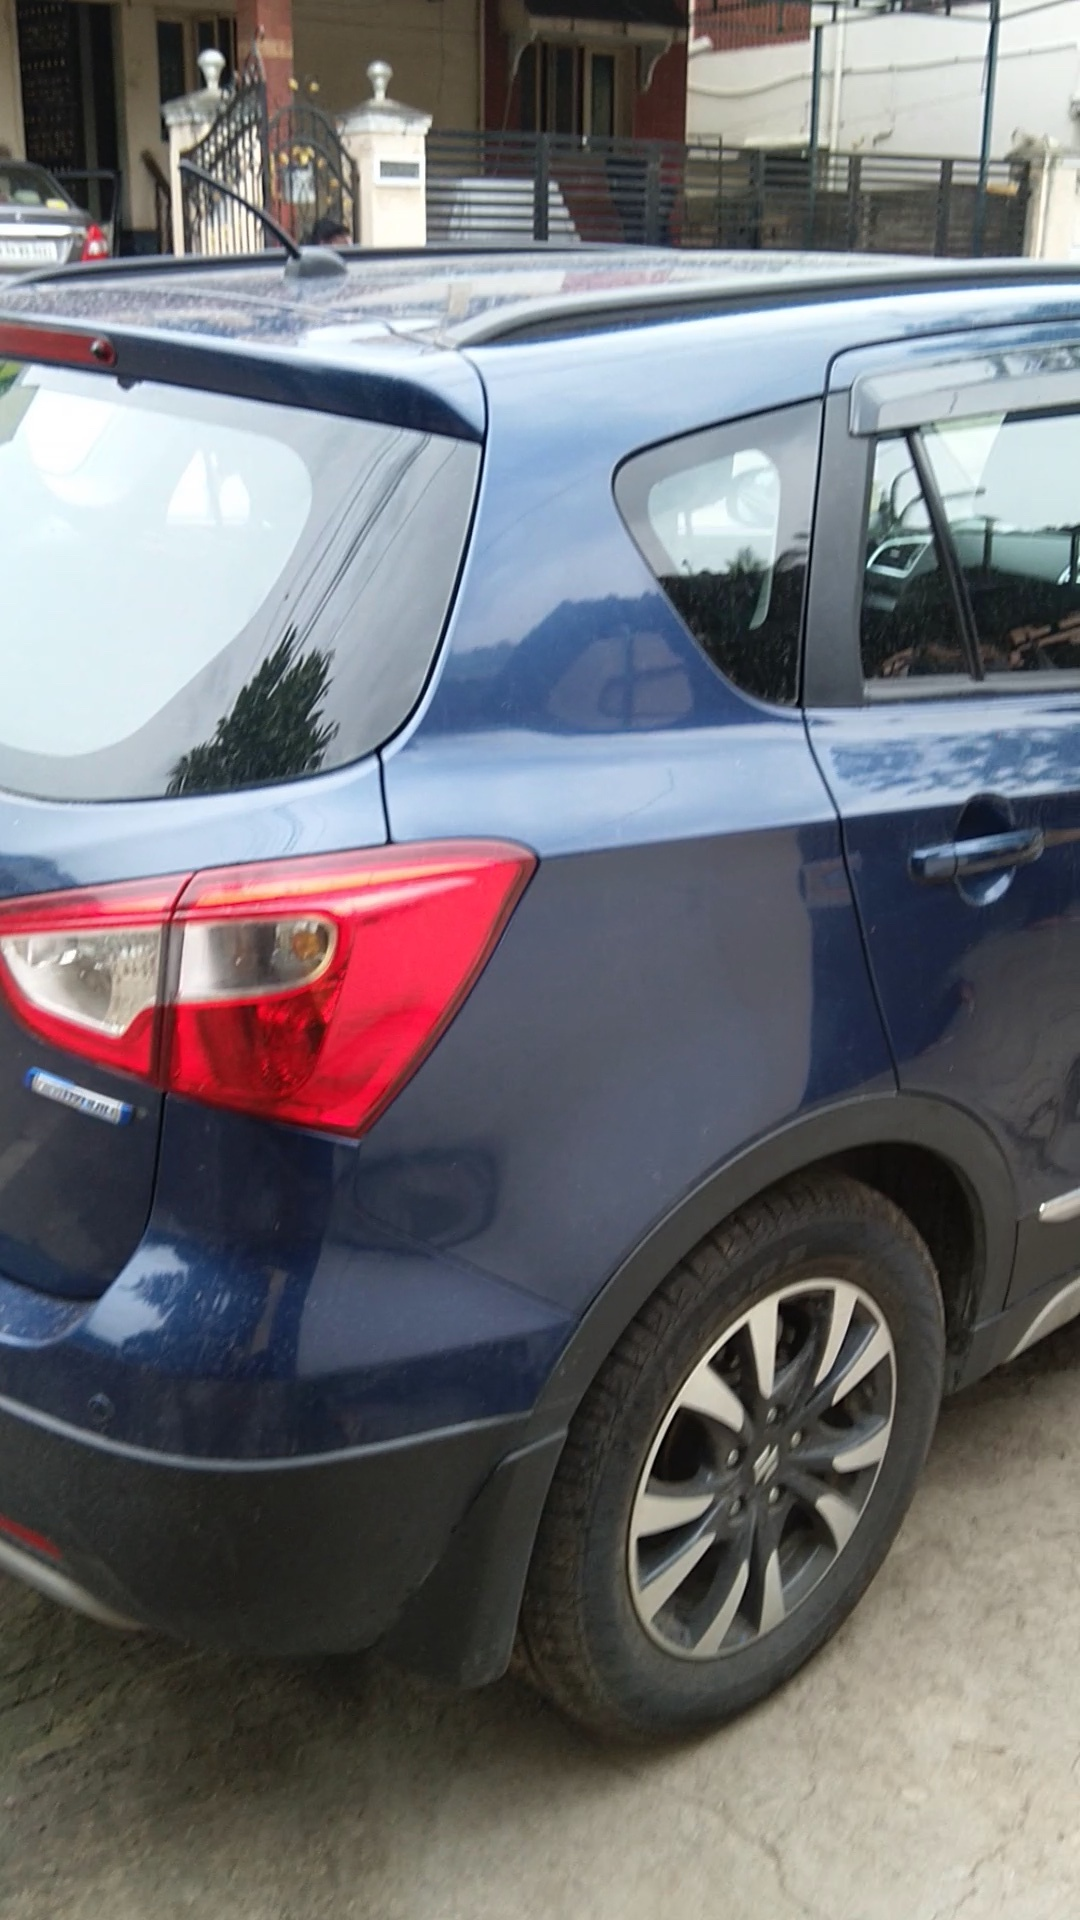alloy_wheel: (535, 1200, 961, 1762)
rear_camera: (79, 332, 113, 372)
shvs: (15, 1047, 149, 1147)
